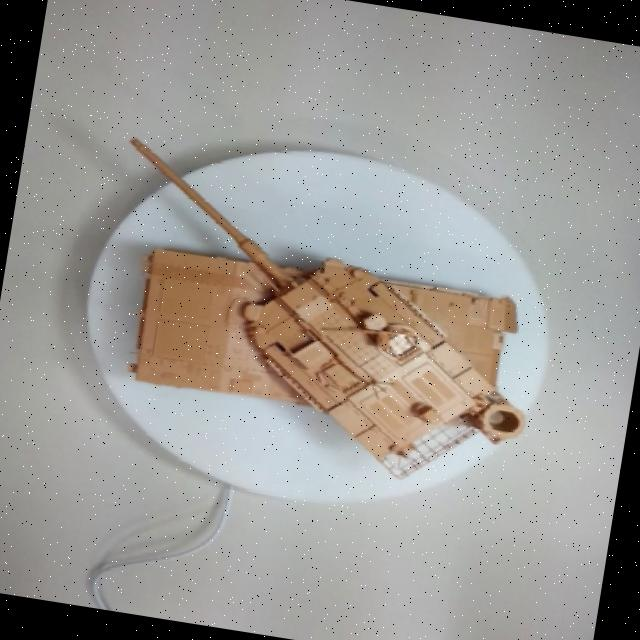korea tank: (7, 111, 590, 534)
